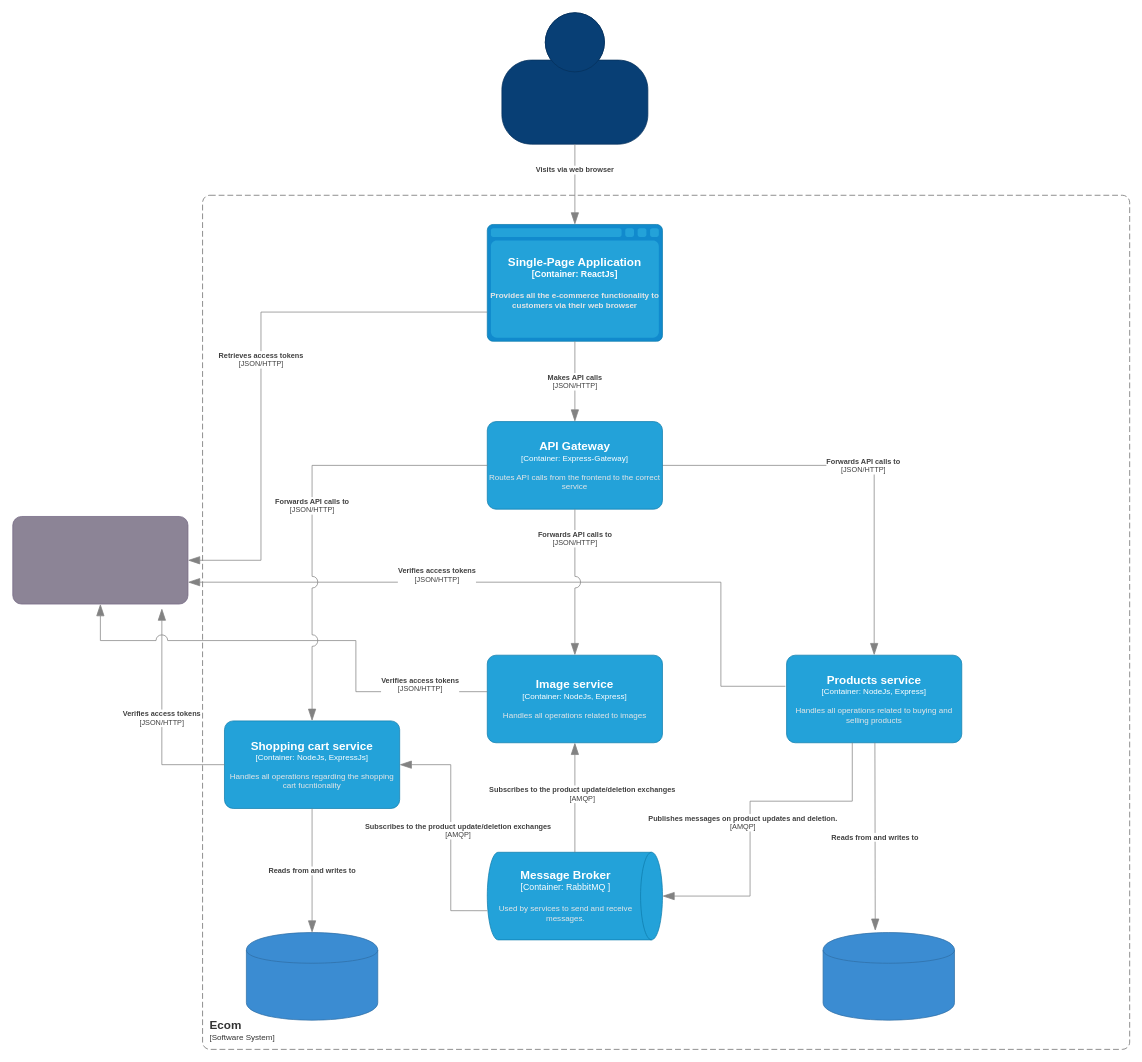
The diagram is 1142 pixels wide and 1062 high, and some of its shapes have lost their labels. Here are the shapes that lost their labels. From the top down, the centre of each, then its label:
At (574,78): "Customer [Person] A customer of the web store".
At (100,560): "Auth0 [Identity provider] handles authentication authorization and user data".
At (312,976): "MongoDB [ NoSQL database ] Stores information regarding shopping cart".
At (888,976): "MongoDB [ NoSQL database ] Stores information regarding products".
